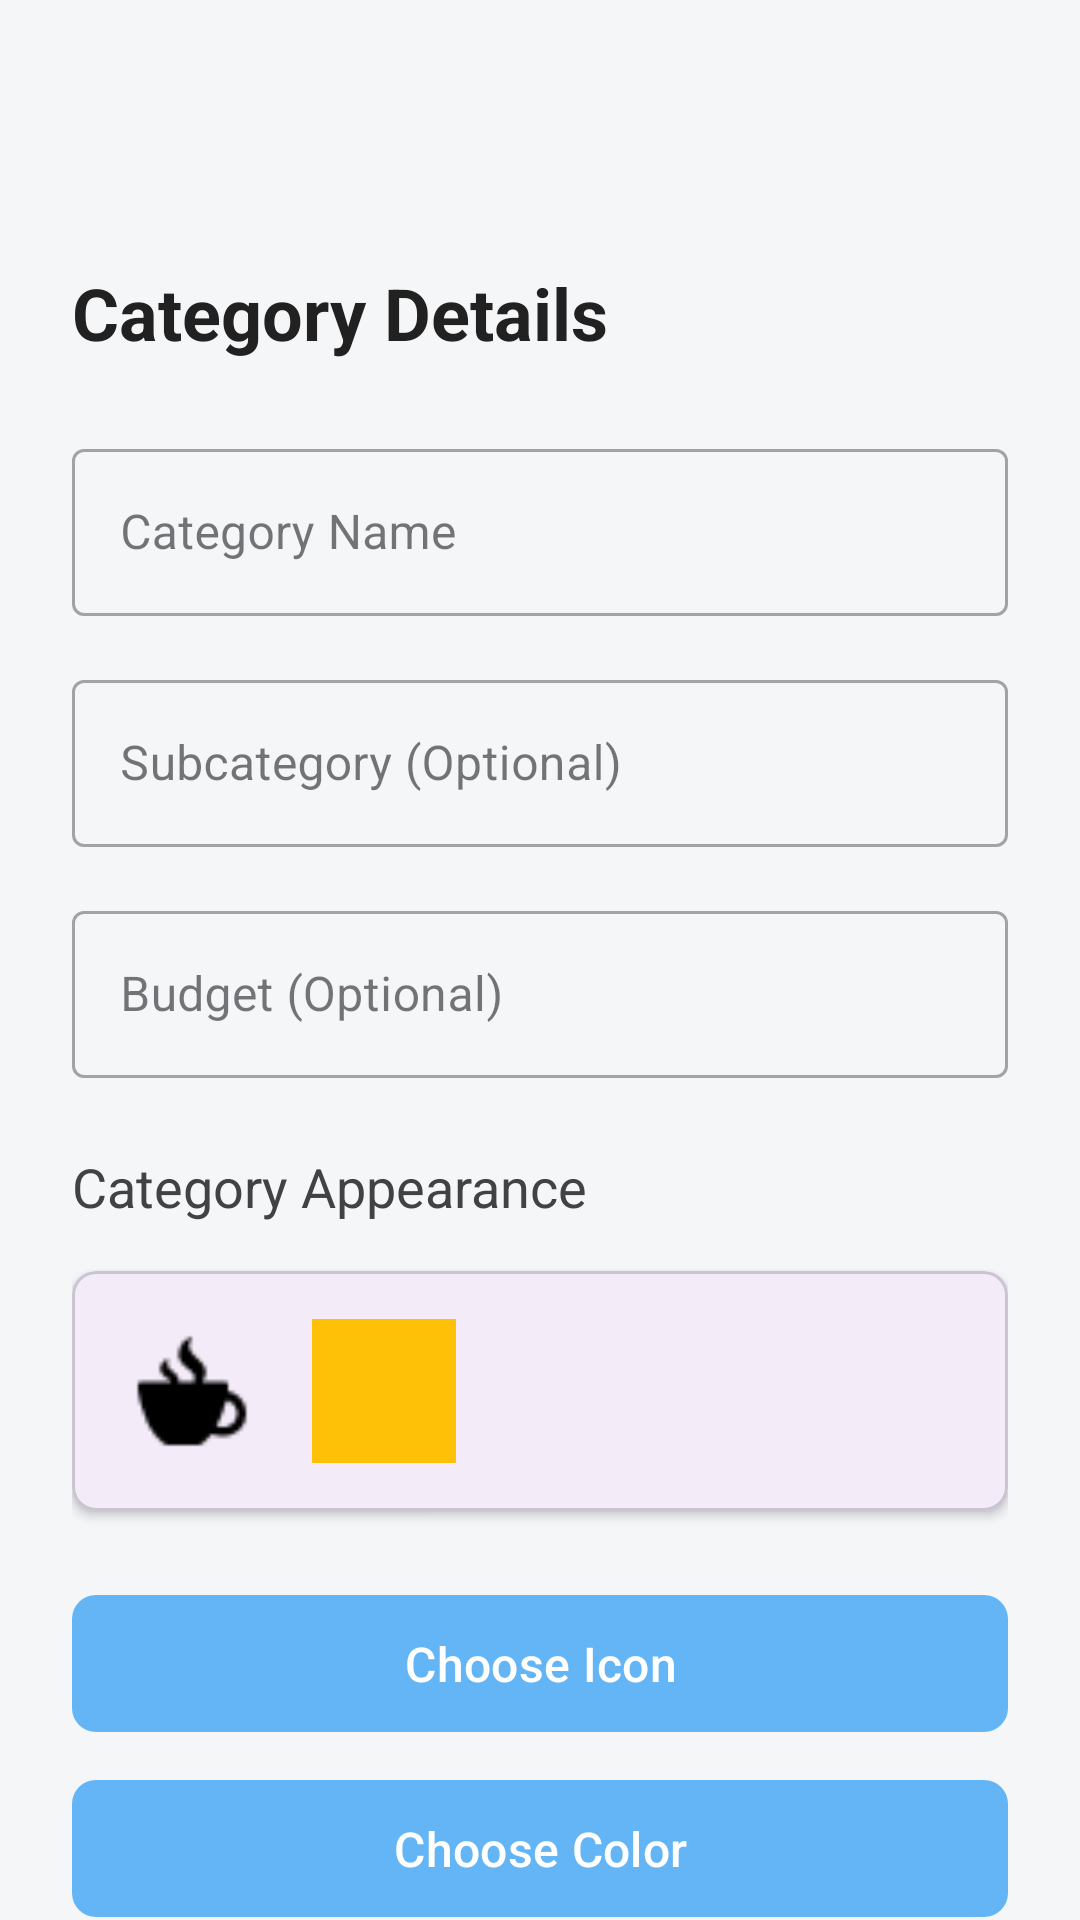

Named icons in this screenshot (1080×1920) and their bounding boxes, (x1, y1, x2, y2):
Selected category icon: (137, 1336, 247, 1446)
